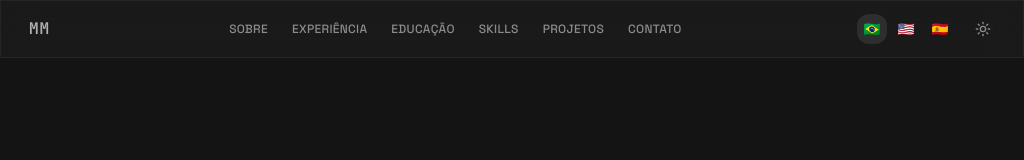
Test case: Header component › localizes accessibility labels after switching to English
This screenshot has width=1024, height=160.
Expected: the navigation bar named "Navegação principal" is shown, x1=229 y1=17 x2=682 y2=41
What coordinates should you click on to do the following:
click the button named "Mudar para English"
I would click on:
 (906, 29)
Its box is x1=891 y1=14 x2=921 y2=44.
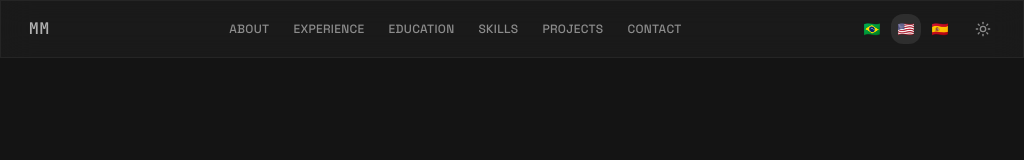
Expected: the element named "Language selection" is shown, x1=857 y1=14 x2=955 y2=44
Expected: the navigation bar named "Main navigation" is shown, x1=229 y1=17 x2=682 y2=41
